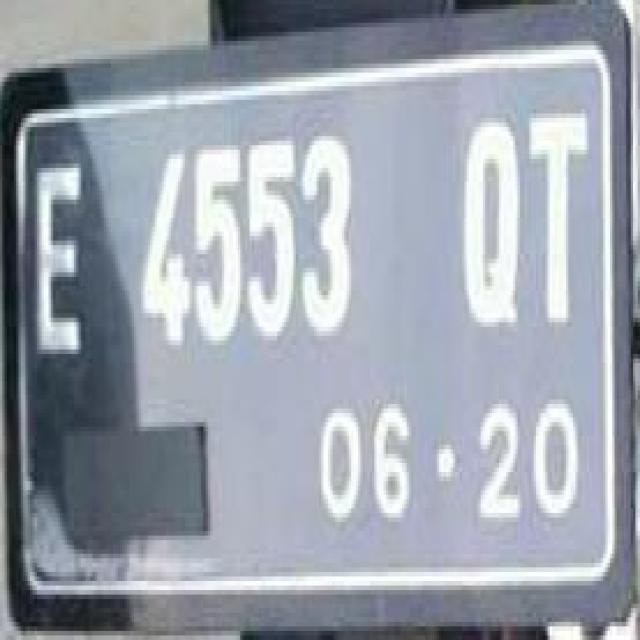3: (295, 115, 359, 361)
4: (136, 140, 194, 367)
5: (189, 126, 246, 379), (243, 127, 297, 381)
E: (28, 141, 92, 386)
Q: (459, 115, 528, 337)
T: (523, 105, 595, 340)
